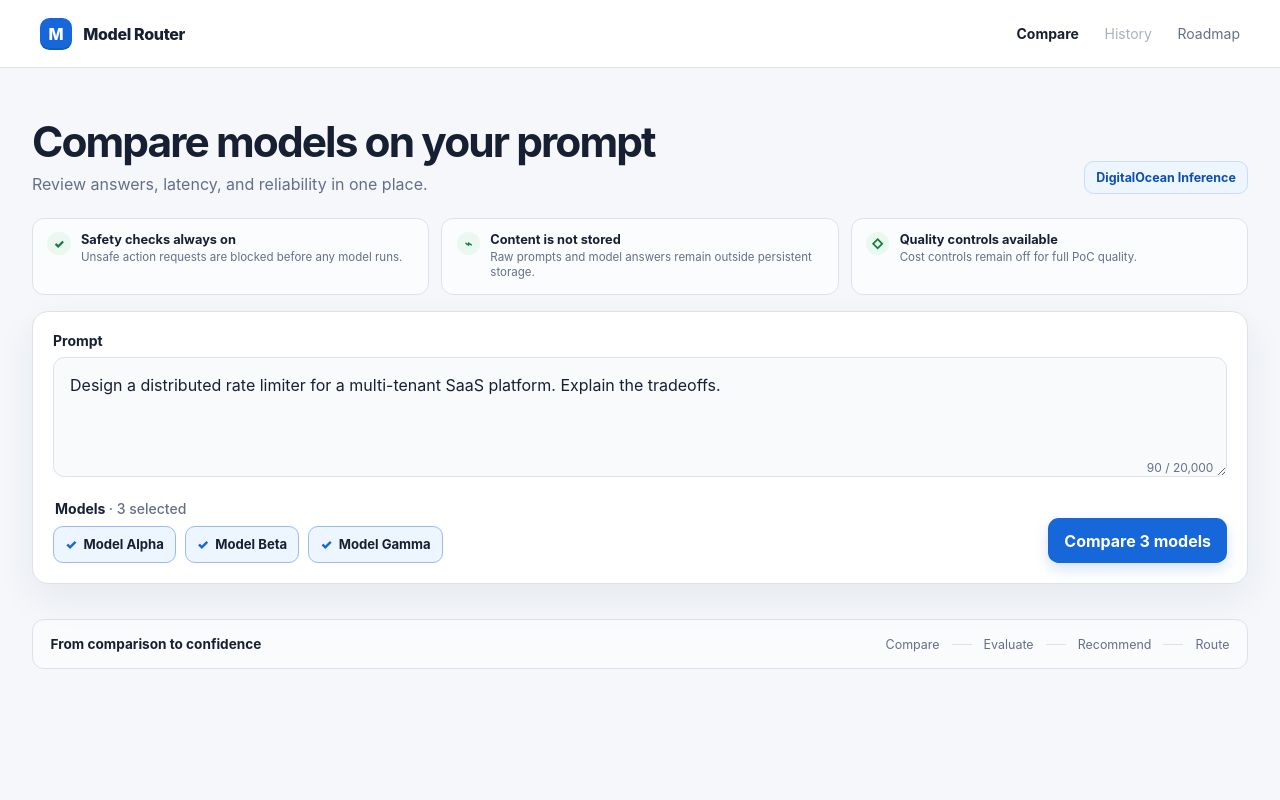
Test case: ComparisonWorkspace › requires two selected models before comparison
Expected: the text "Model Alpha" is shown, [84,536,164,552]
Click the checkbox labelled "✓ Model Alpha". click: (114, 544)
box: [53,526,176,563]
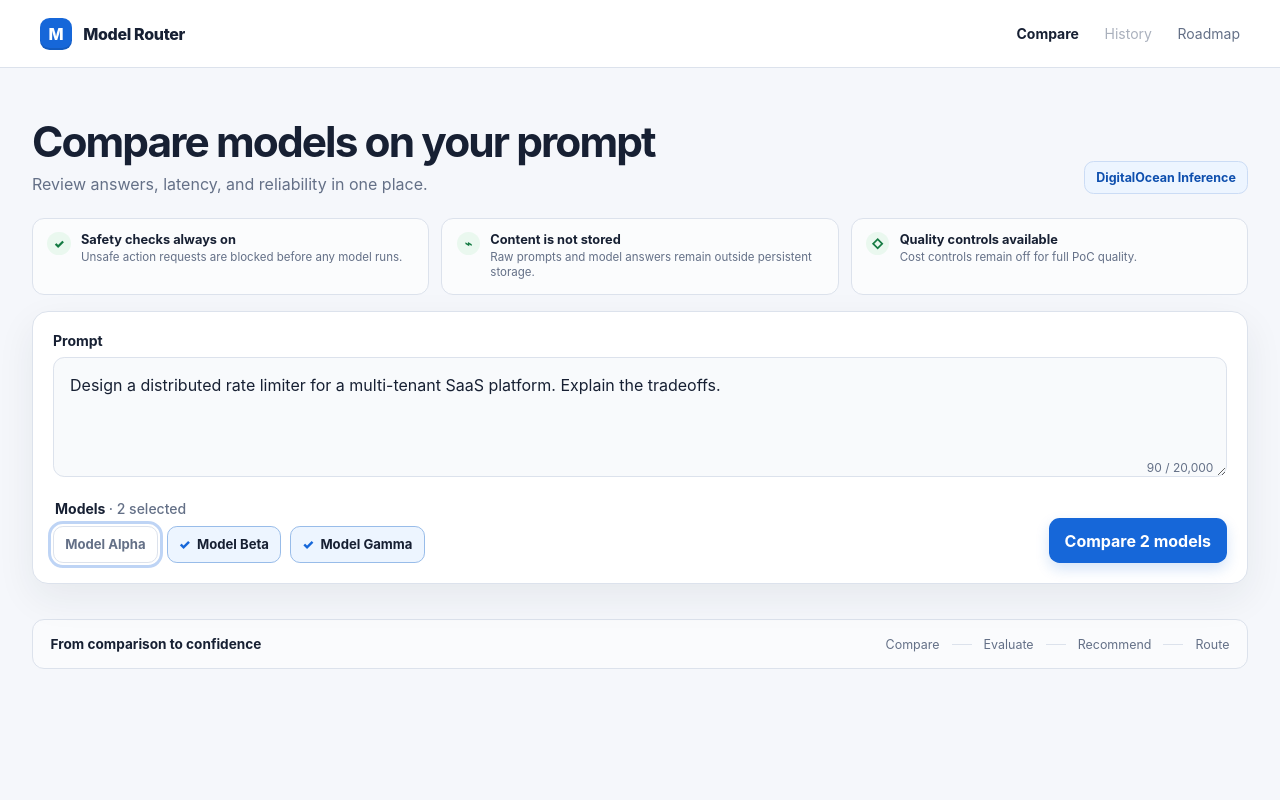
Click the checkbox labelled "✓ Model Beta". click: (224, 544)
box: [166,526,281,563]
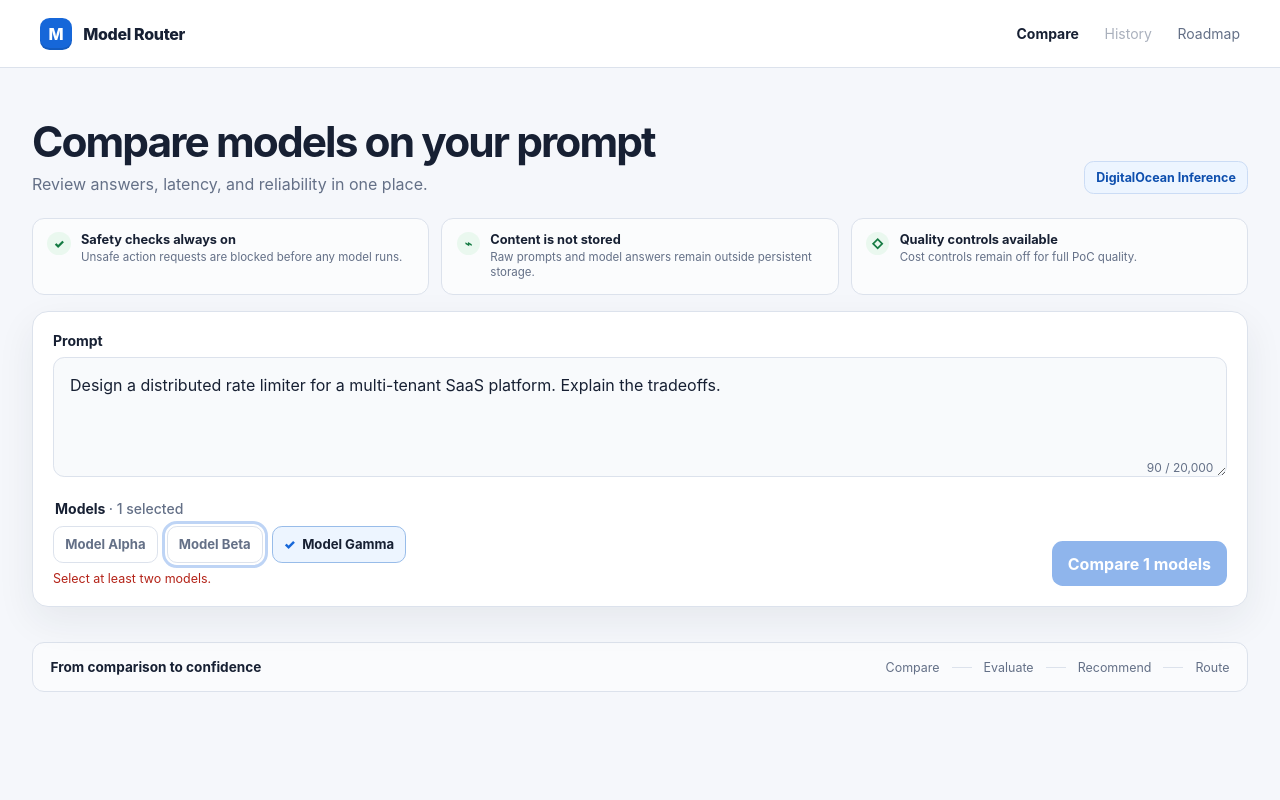
Expected: the text "Select at least two models." is shown, [53,571,211,586]
Expected: the button "Compare 1 models" is disabled, [1052,541,1227,586]
